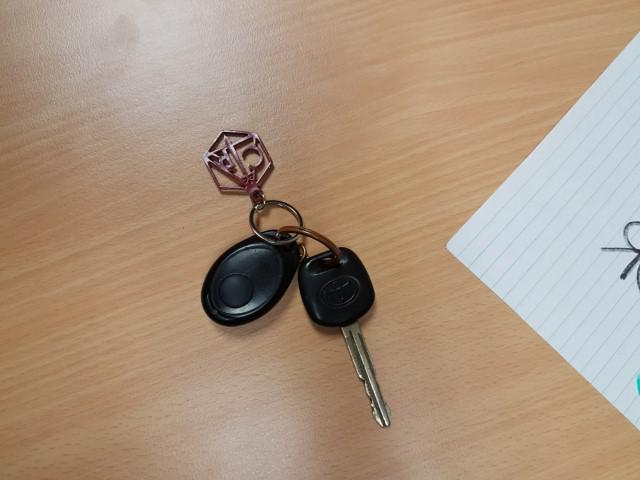key: (302, 247, 392, 427)
